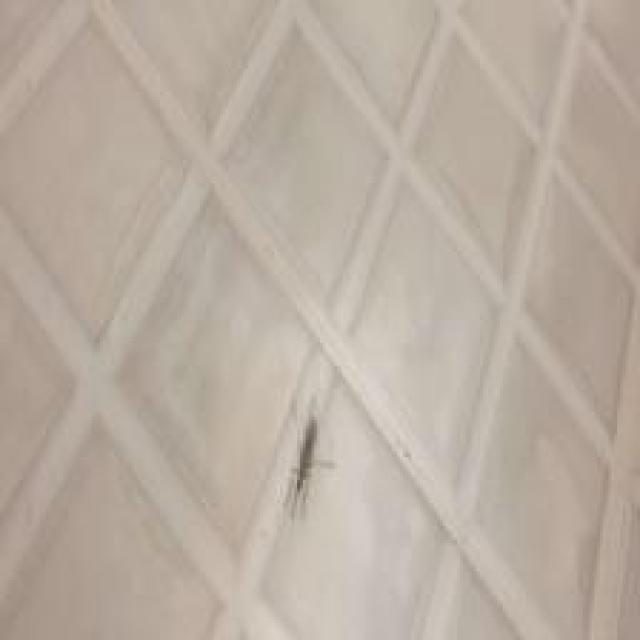Culex: (278, 413, 336, 521)
